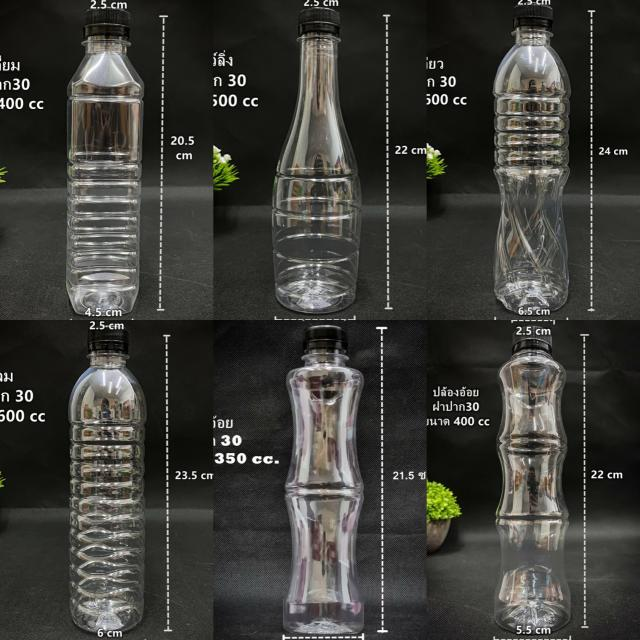plastik: (272, 8, 361, 313), (282, 325, 364, 635), (66, 8, 144, 316), (69, 323, 146, 632), (494, 6, 570, 315), (494, 325, 570, 634)
